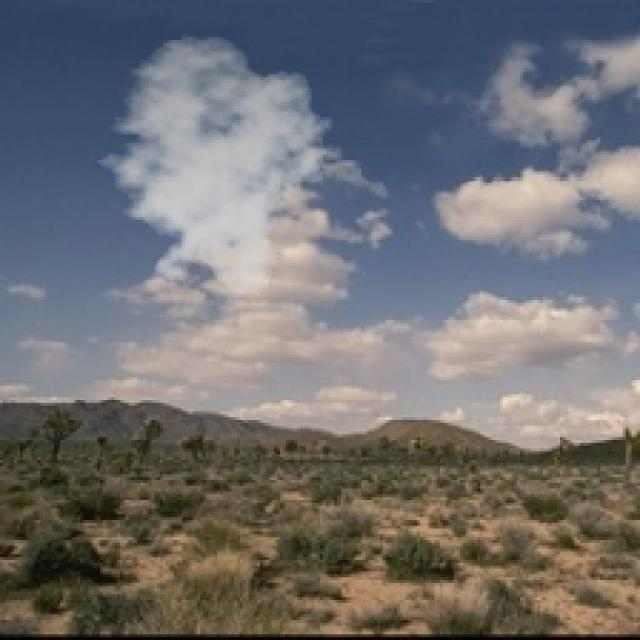smoke: (86, 34, 340, 297)
